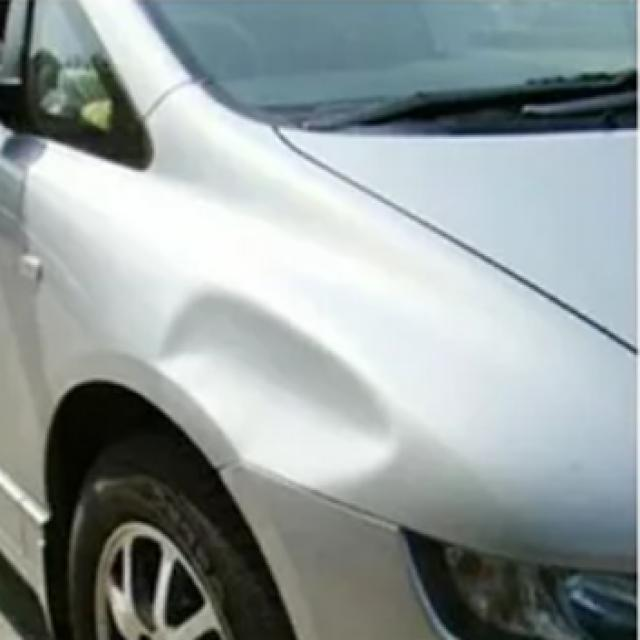dents: (99, 264, 407, 502)
